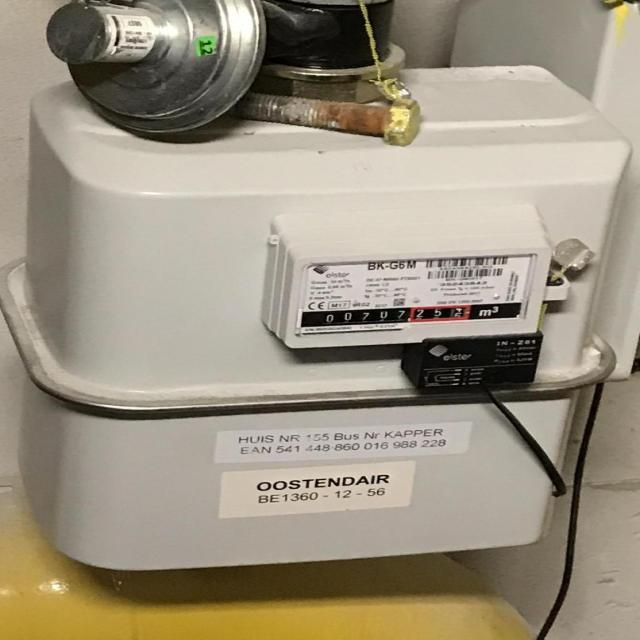gaz_meter: (295, 252, 536, 331)
indication: (299, 304, 474, 328)
